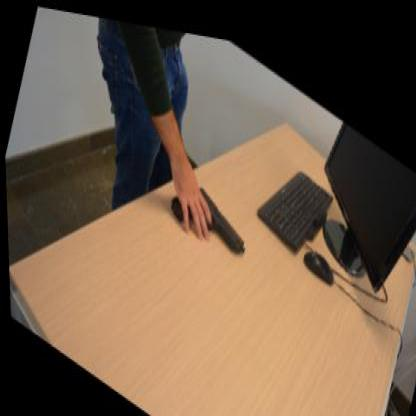pistol: (167, 159, 250, 254)
